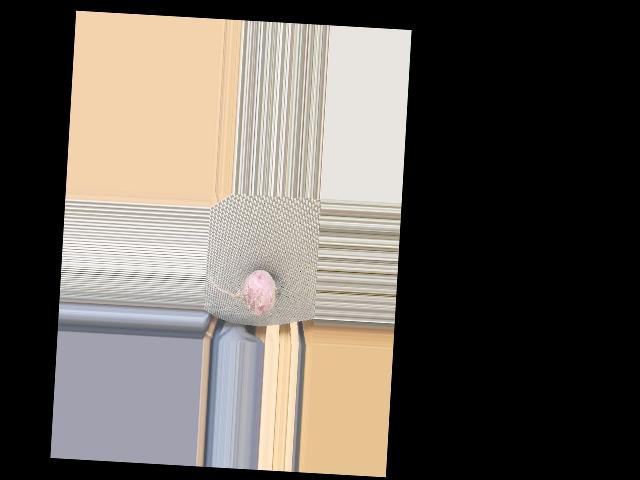beet: (209, 267, 283, 317)
